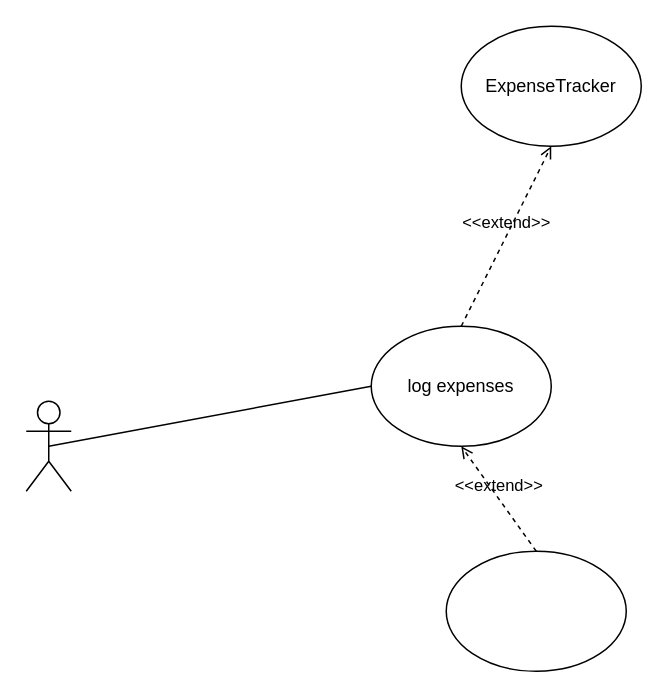
Some shapes in this 668 by 698 pixel diagram are drawn without their labels. Here are the shapes that lost their labels. From the top down, the box of each, then its label:
(25, 400, 71, 491): user
(445, 550, 626, 671): delete expenses
